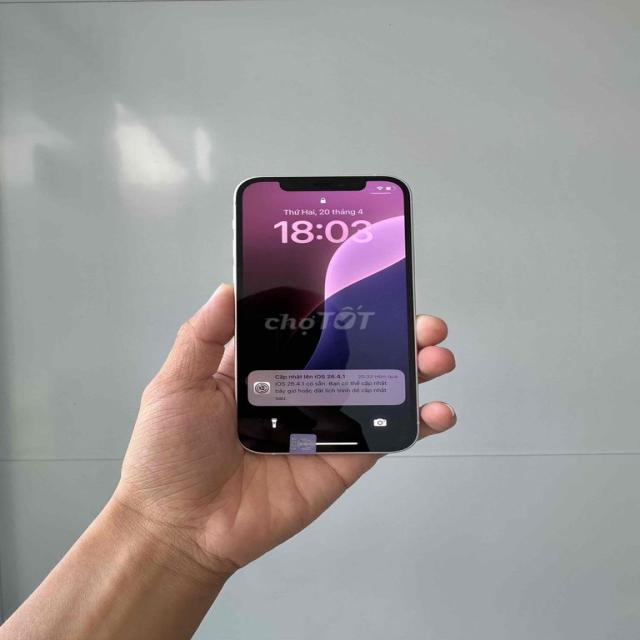gen_12_13: (227, 164, 420, 467)
